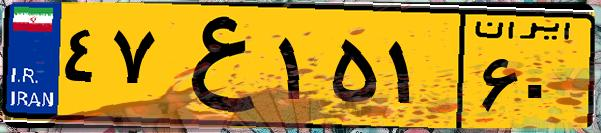0: (525, 38, 570, 115)
1: (270, 28, 330, 110), (385, 28, 445, 110)
4: (57, 26, 110, 100)
5: (330, 28, 385, 110)
6: (475, 38, 525, 113)
7: (110, 28, 158, 98)
ع: (158, 12, 270, 120)
